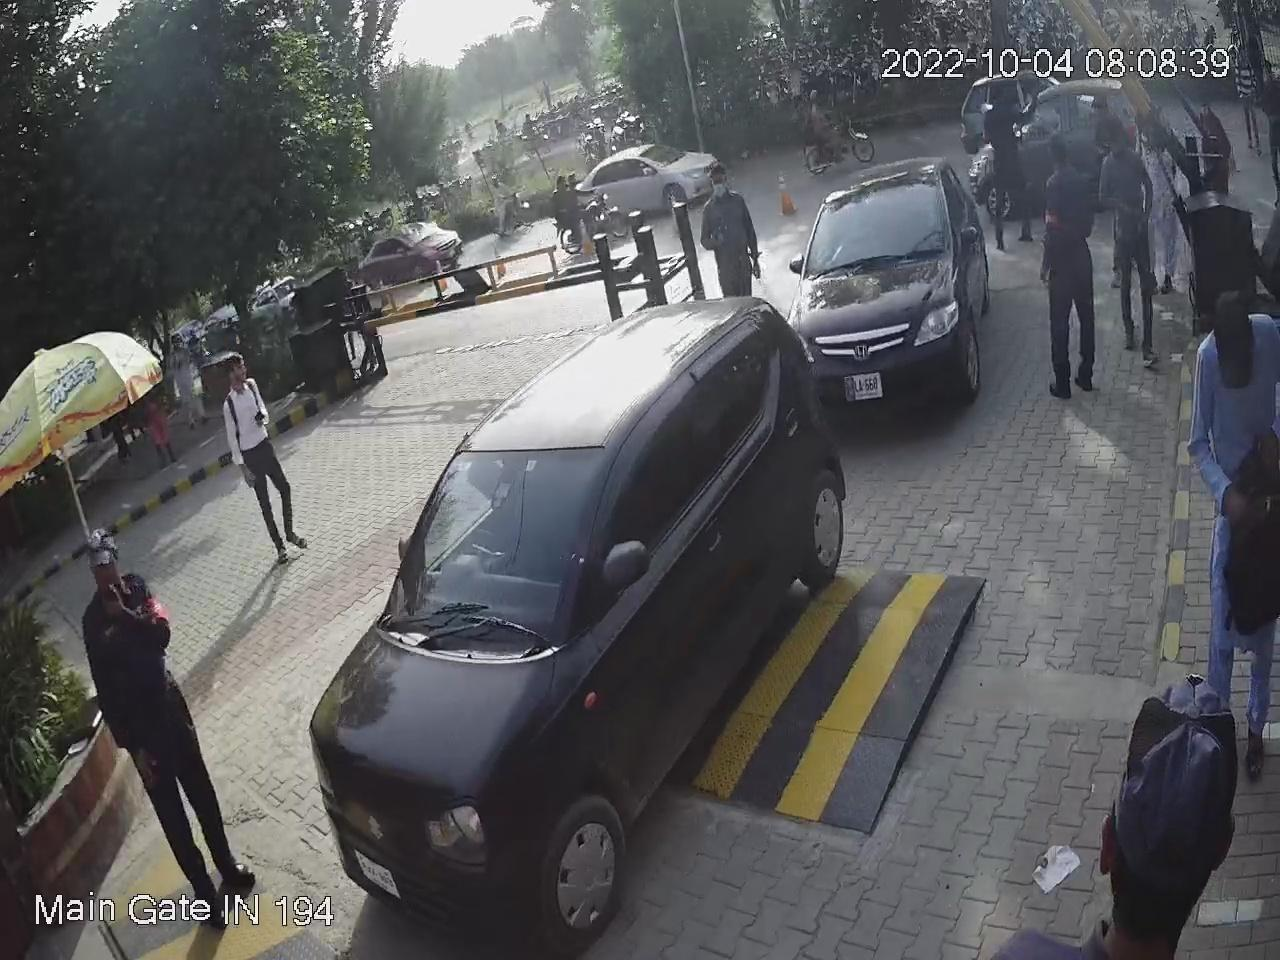windshield: (383, 448, 616, 645), (803, 172, 950, 282)
